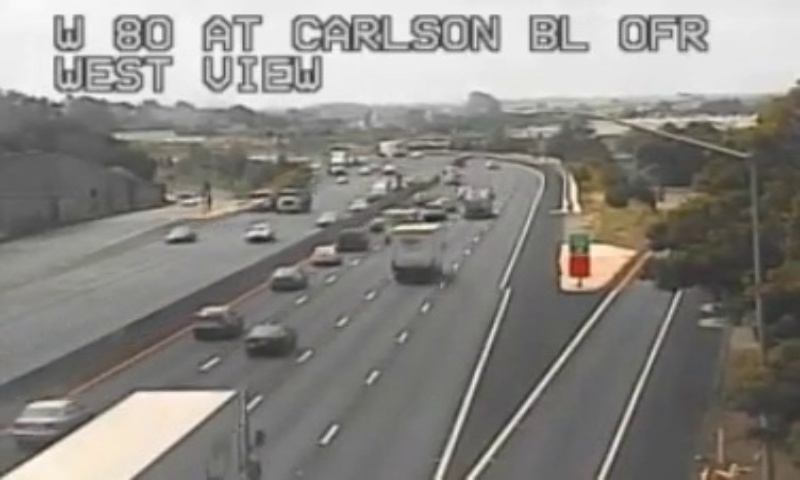car: (14, 398, 91, 445), (192, 306, 239, 339), (244, 324, 293, 354), (270, 267, 304, 290), (310, 246, 340, 266)
small-truck: (389, 223, 442, 279)
truck: (1, 387, 245, 480)
